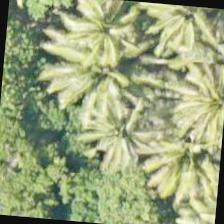Kelapa_Sawit: (50, 20, 148, 118), (72, 84, 170, 182), (145, 98, 223, 196), (64, 0, 160, 69), (172, 47, 223, 143), (138, 2, 223, 57)
